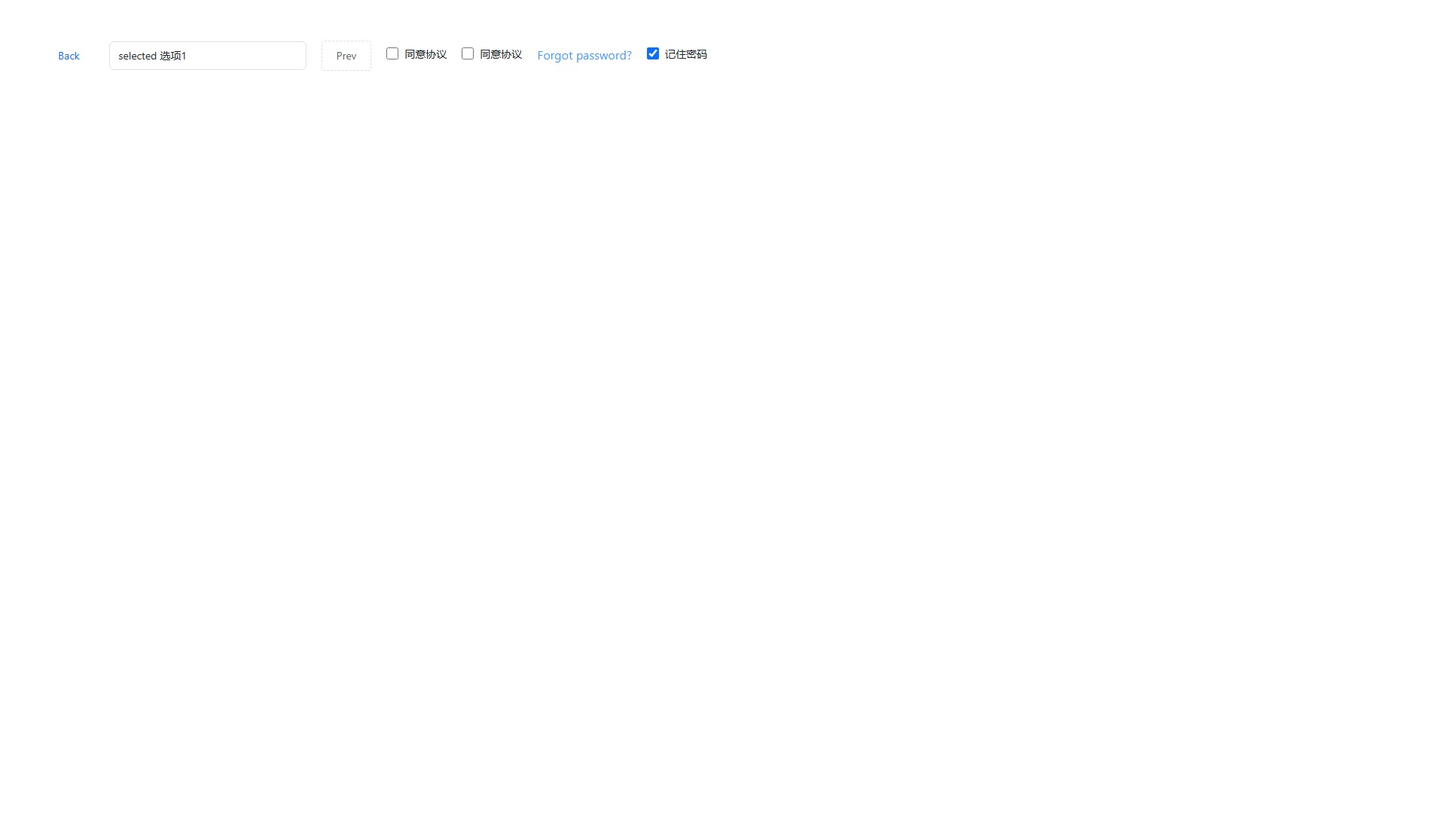button: (321, 41, 372, 71), (44, 41, 94, 70)
checkbox: (387, 47, 399, 59), (462, 47, 474, 59), (647, 47, 659, 59)
icon: (405, 46, 447, 61), (480, 46, 522, 61), (665, 46, 707, 61)
link: (537, 47, 632, 62)
radio: (387, 46, 447, 61), (462, 46, 522, 61), (647, 46, 707, 61)
select: (109, 41, 306, 70)
